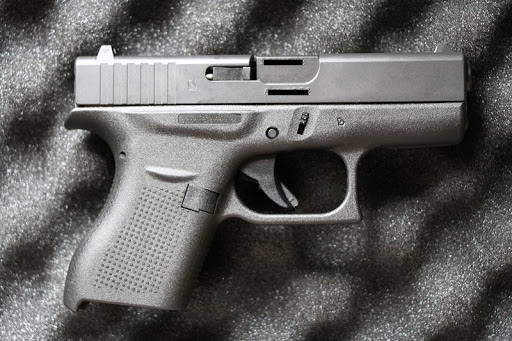gun: (52, 35, 477, 333)
